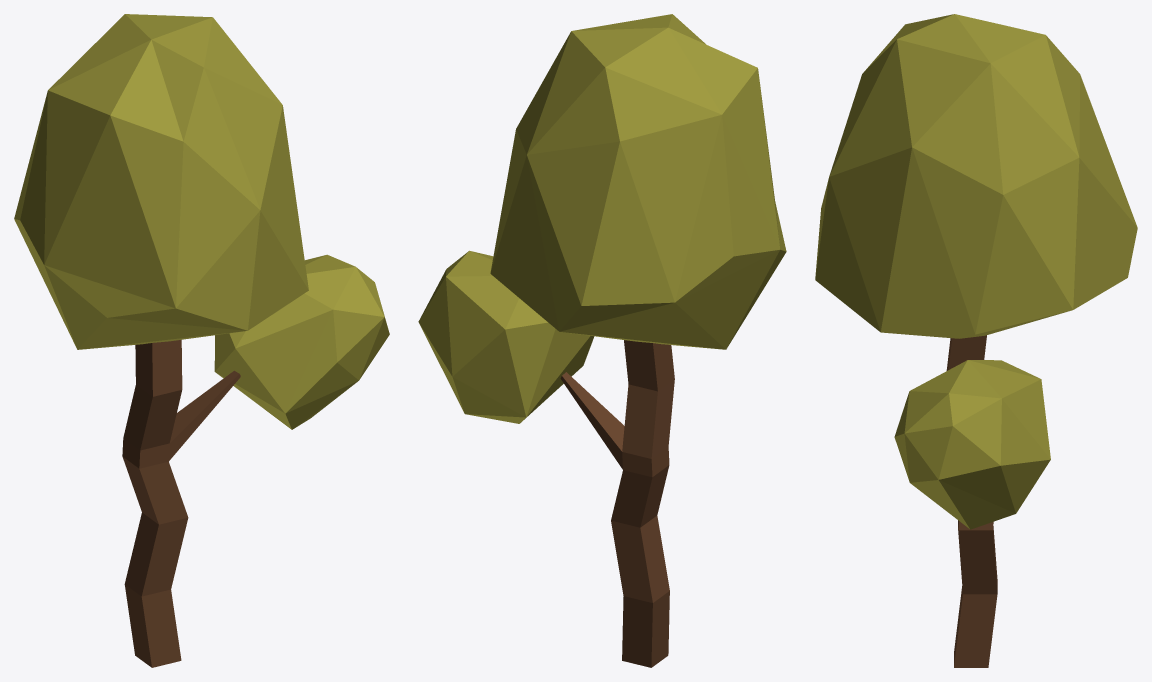
The model's file is Tree_41_Yellow.fbx.
The picture shows the model from 3 angles, left to right: view 1: azimuth 30°, elevation 25°; view 2: azimuth 150°, elevation 25°; view 3: azimuth 270°, elevation 25°; orthographic projection.
Visible parts, largest first — view 1: Tree_41_Yellow_Part_1, Tree_41_Yellow_Part_2; view 2: Tree_41_Yellow_Part_1, Tree_41_Yellow_Part_2; view 3: Tree_41_Yellow_Part_1, Tree_41_Yellow_Part_2.
Part boxes in pixels (x1=…): Tree_41_Yellow_Part_1: x1=14, y1=14, x2=389, y2=429; Tree_41_Yellow_Part_2: x1=122, y1=339, x2=240, y2=667; Tree_41_Yellow_Part_1: x1=418, y1=14, x2=786, y2=423; Tree_41_Yellow_Part_2: x1=560, y1=340, x2=674, y2=667; Tree_41_Yellow_Part_1: x1=815, y1=14, x2=1137, y2=529; Tree_41_Yellow_Part_2: x1=946, y1=335, x2=997, y2=667.
Bounding box in the file's own units: 450 × 794 × 363.
